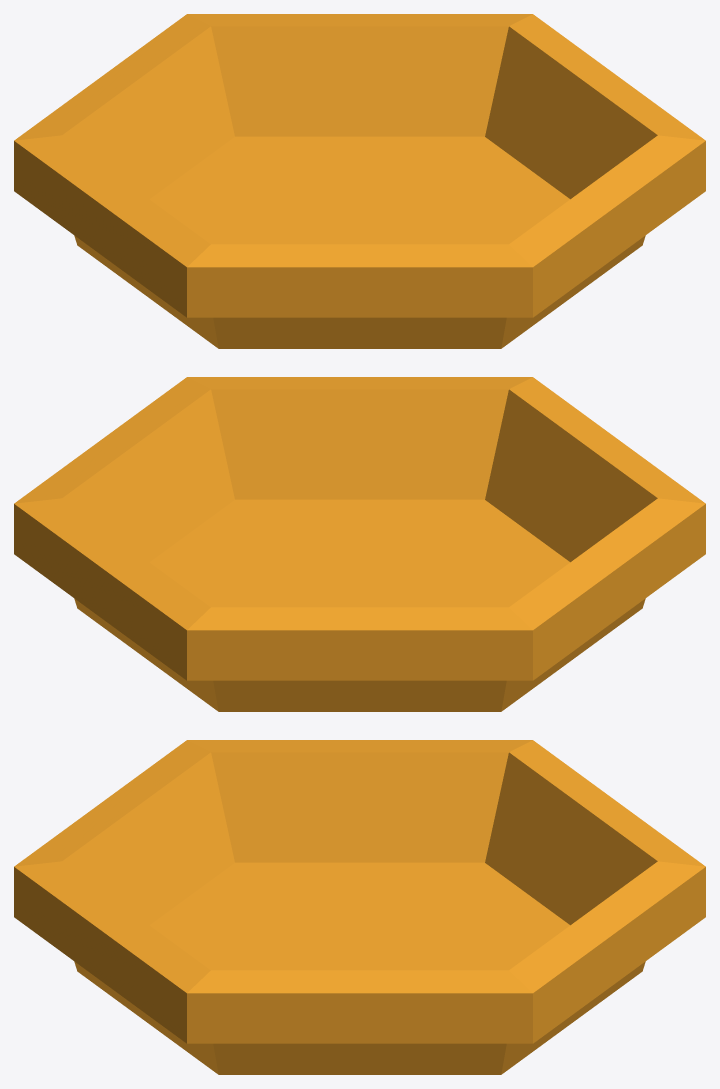
File: SM_Pot_Saucer_Clay_Small_A.fbx
3 views of the same model, one above another, from view 1: azimuth 30°, elevation 25°; view 2: azimuth 150°, elevation 25°; view 3: azimuth 270°, elevation 25° (orthographic).
Parts seen in each view (by area): view 1: pot-saucer-clay-small-a; view 2: pot-saucer-clay-small-a; view 3: pot-saucer-clay-small-a.
Boxes of the visible parts, bbox=[...] form: pot-saucer-clay-small-a: bbox=[14, 14, 705, 348]; pot-saucer-clay-small-a: bbox=[14, 377, 705, 711]; pot-saucer-clay-small-a: bbox=[14, 740, 705, 1074].
Bounding box in the file's own units: 0.1003 × 0.0203 × 0.1158.
